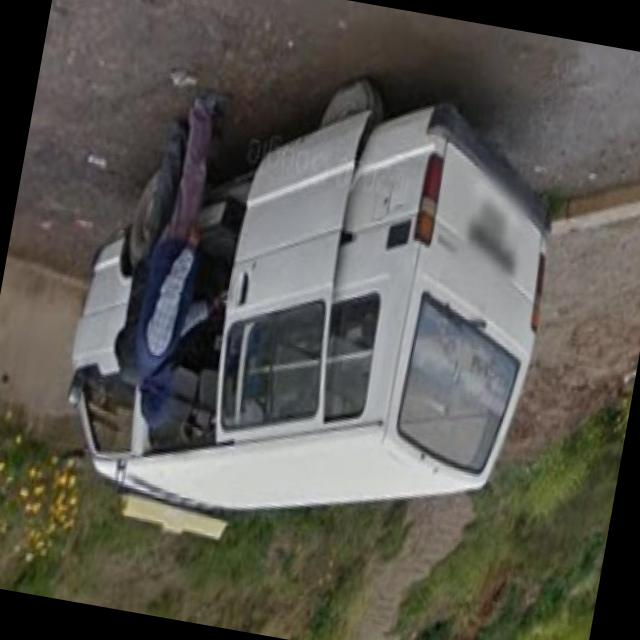car: (34, 44, 569, 578)
